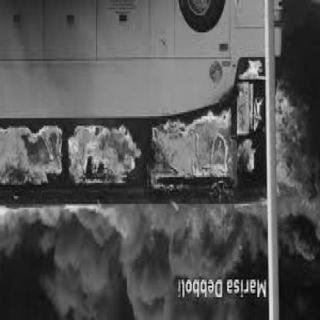Fire: (147, 61, 269, 199), (156, 203, 252, 300), (273, 85, 317, 212), (68, 121, 142, 193), (2, 124, 66, 193)
Smoke: (10, 206, 156, 318)
